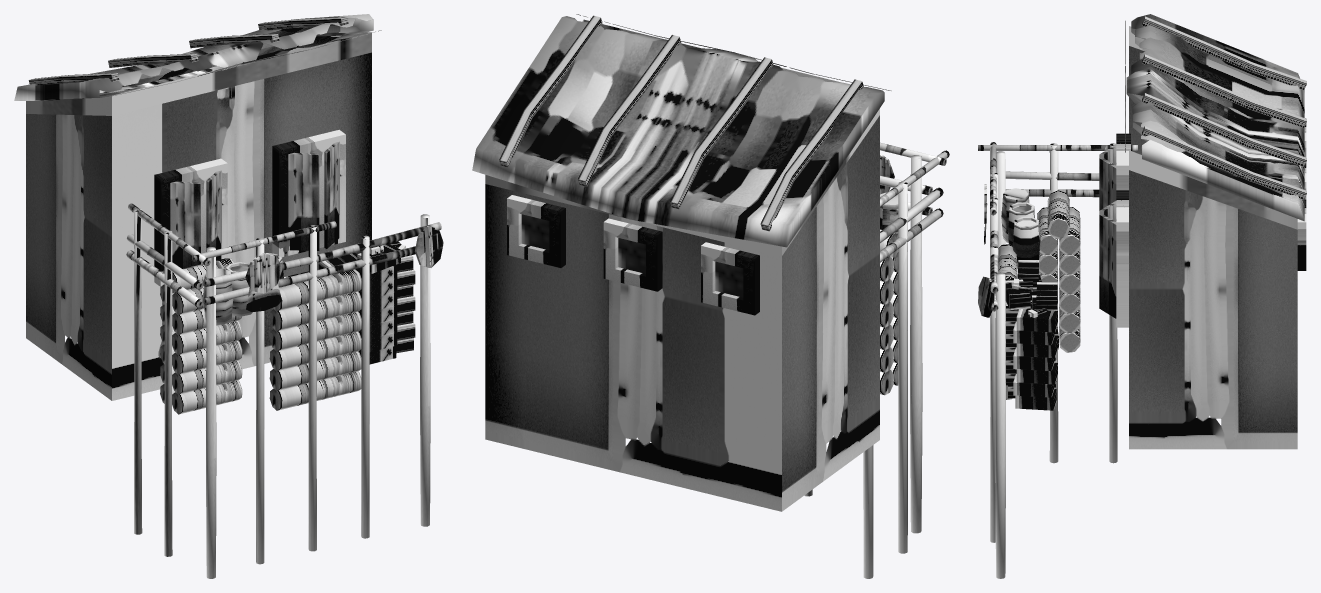
The model's file is mex_storehouse.dae.
3 views of the same model, side by side, from view 1: azimuth 30°, elevation 25°; view 2: azimuth 150°, elevation 25°; view 3: azimuth 270°, elevation 25° (orthographic). The views are drawn at different scales.
Visible parts, largest first — view 1: Cube; view 2: Cube; view 3: Cube.
Boxes of the visible parts, x1,y1,x2,y2 form: Cube: [14, 14, 443, 578]; Cube: [472, 14, 949, 578]; Cube: [978, 14, 1306, 578].
Bounding box in the file's own units: 11.64 × 12.26 × 18.33.
